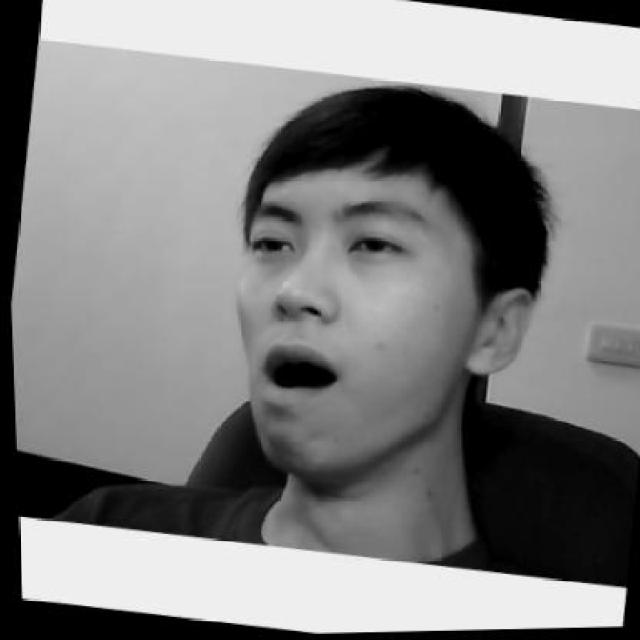inattentif: (203, 64, 562, 510)
